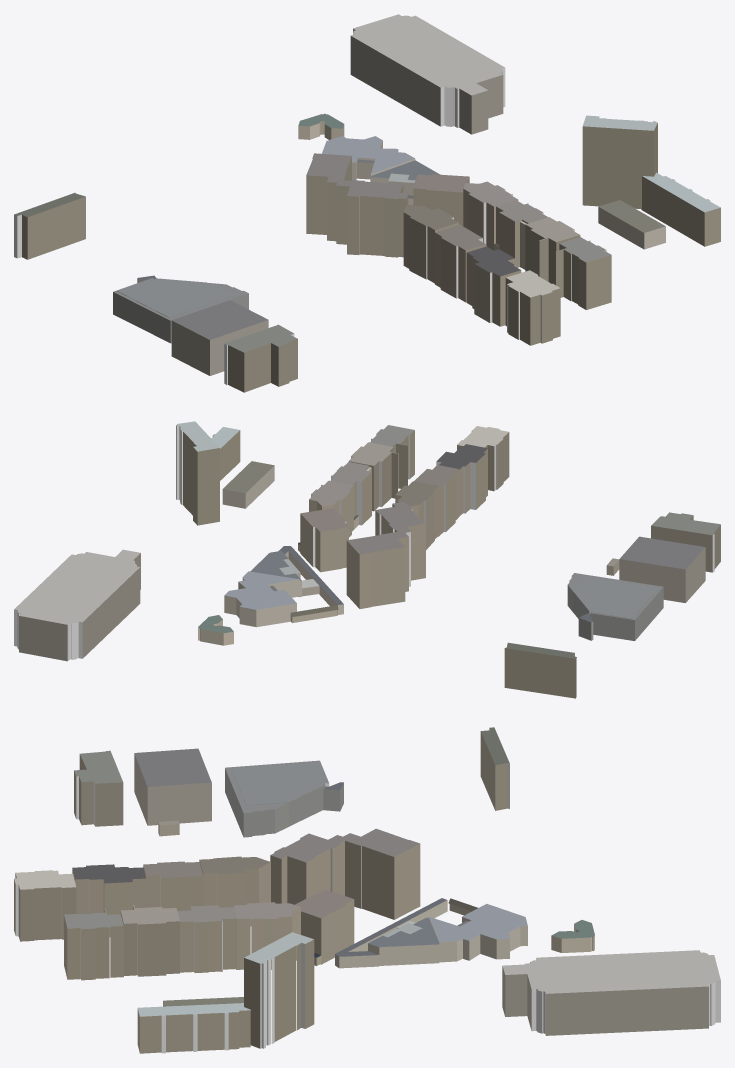
3 views of the same model, one above another, from view 1: azimuth 30°, elevation 25°; view 2: azimuth 150°, elevation 25°; view 3: azimuth 270°, elevation 25° (orthographic). The views are drawn at different scales.
Visible parts, largest first — view 1: tuile; view 2: tuile; view 3: tuile.
Boxes of the visible parts, x1,y1,x2,y2 form: tuile: (14, 14, 720, 392); tuile: (14, 421, 720, 698); tuile: (14, 727, 720, 1053).
Size of the model in its own units: 273 by 42.08 by 287.
